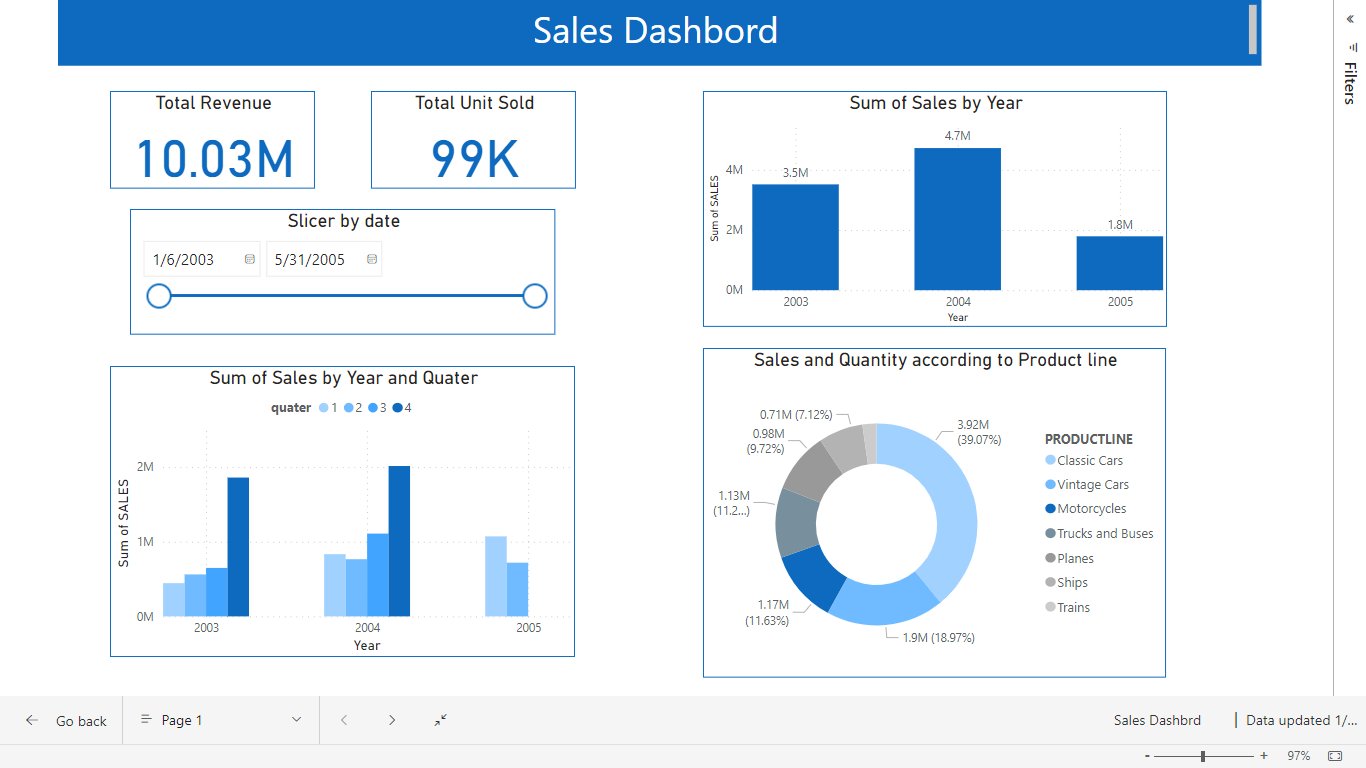

The dashboard page shown, as its layout file describes it:
{"tool":"powerbi","page":{"name":"Page 1","canvas":[1280,720],"ordinal":0},"visuals":[{"type":"textbox","box":[10.8,0,1244.7,67.6],"z":0},{"type":"card","title":"Total Revenue","fields":{"Values":["Sum(sales_data_sample.SALES)"]},"box":[64.4,93.7,212.2,101],"z":1000},{"type":"card","title":"Total Unit Sold","fields":{"Values":["Sum(sales_data_sample.QUANTITY)"]},"box":[333.7,93.7,212.2,101],"z":2000},{"type":"slicer","title":"Slicer by date","fields":{"Values":["sales_data_sample.Date"]},"box":[84.9,216.6,440.5,130.2],"z":3000},{"type":"clusteredColumnChart","title":"Sum of Sales by Year","fields":{"Y":["Sum(sales_data_sample.SALES)"],"Category":["sales_data_sample.Date.Variation.Date Hierarchy.Year","sales_data_sample.Date.Variation.Date Hierarchy.Quarter","sales_data_sample.Date.Variation.Date Hierarchy.Month","sales_data_sample.Date.Variation.Date Hierarchy.Day"]},"box":[677.6,93.7,480,244.4],"z":4000},{"type":"clusteredColumnChart","title":"Sum of Sales by Year and Quater","fields":{"Category":["sales_data_sample.YEAR_ID"],"Y":["Sum(sales_data_sample.SALES)"],"Series":["sales_data_sample.quater"]},"box":[64.4,379,481.5,301.5],"z":5000},{"type":"donutChart","title":"Sales and Quantity according to Product line","fields":{"Category":["sales_data_sample.PRODUCTLINE"],"Y":["Sum(sales_data_sample.SALES)"]},"box":[677.6,359.6,479.4,341.1],"z":7000}]}

Visuals, with their boxes on the page's 1280x720 design canvas (x1, y1, x2, y2). These are canvas units, not pixel positions in the 1366x768 screenshot, which may show the page scaled, cropped or inside an application window:
textbox: <box>11,0,1256,68</box>
"Total Revenue" card: <box>64,94,277,195</box>
"Total Unit Sold" card: <box>334,94,546,195</box>
"Slicer by date" slicer: <box>85,217,525,347</box>
"Sum of Sales by Year" clusteredColumnChart: <box>678,94,1158,338</box>
"Sum of Sales by Year and Quater" clusteredColumnChart: <box>64,379,546,680</box>
"Sales and Quantity according to Product line" donutChart: <box>678,360,1157,701</box>
